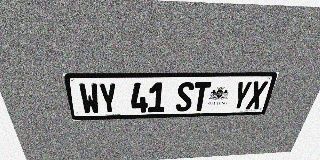1: (148, 82, 166, 112)
4: (130, 82, 148, 113)
S: (175, 82, 195, 112)
T: (191, 82, 211, 111)
W: (78, 83, 101, 114)
X: (245, 81, 268, 109)
Y: (230, 81, 253, 110), (98, 83, 118, 114)
